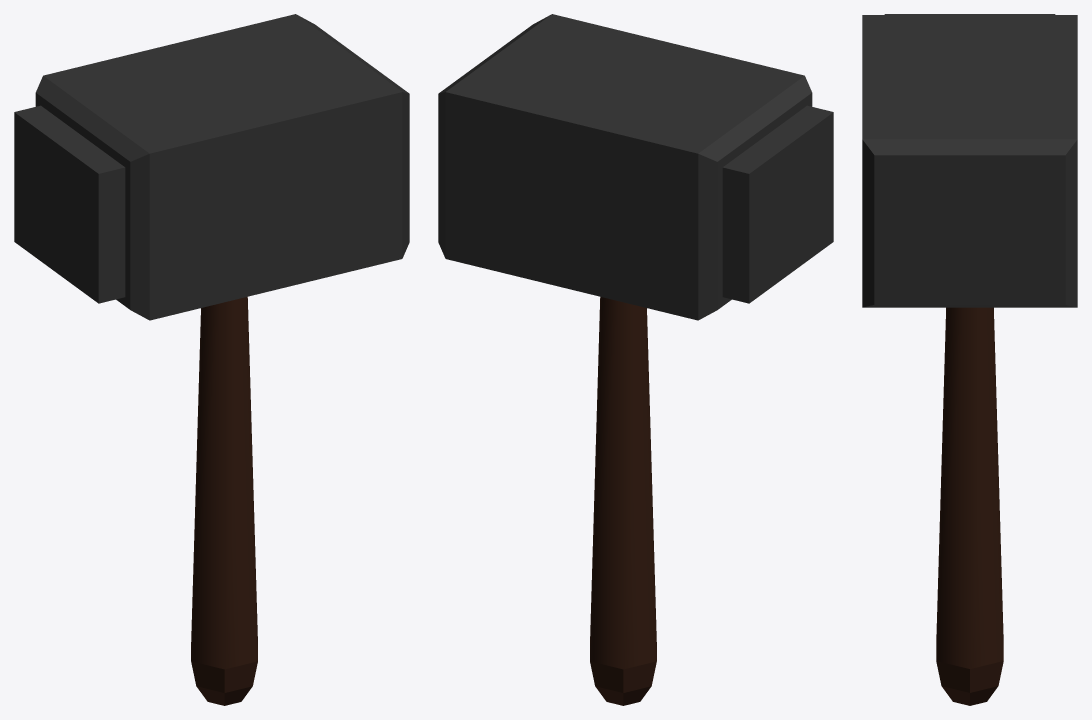
The model's file is SM_hammer_blacksmith_04.fbx.
3 renders of one model, left to right at view 1: azimuth 30°, elevation 25°; view 2: azimuth 150°, elevation 25°; view 3: azimuth 270°, elevation 25°, orthographic.
Parts seen in each view (by area): view 1: Cylinder056; view 2: Cylinder056; view 3: Cylinder056.
Boxes of the visible parts, <box> form: Cylinder056: <box>14,14,409,705</box>; Cylinder056: <box>438,14,833,705</box>; Cylinder056: <box>862,14,1077,705</box>.
Bounding box in the file's own units: 12 × 23.03 × 7.25.
